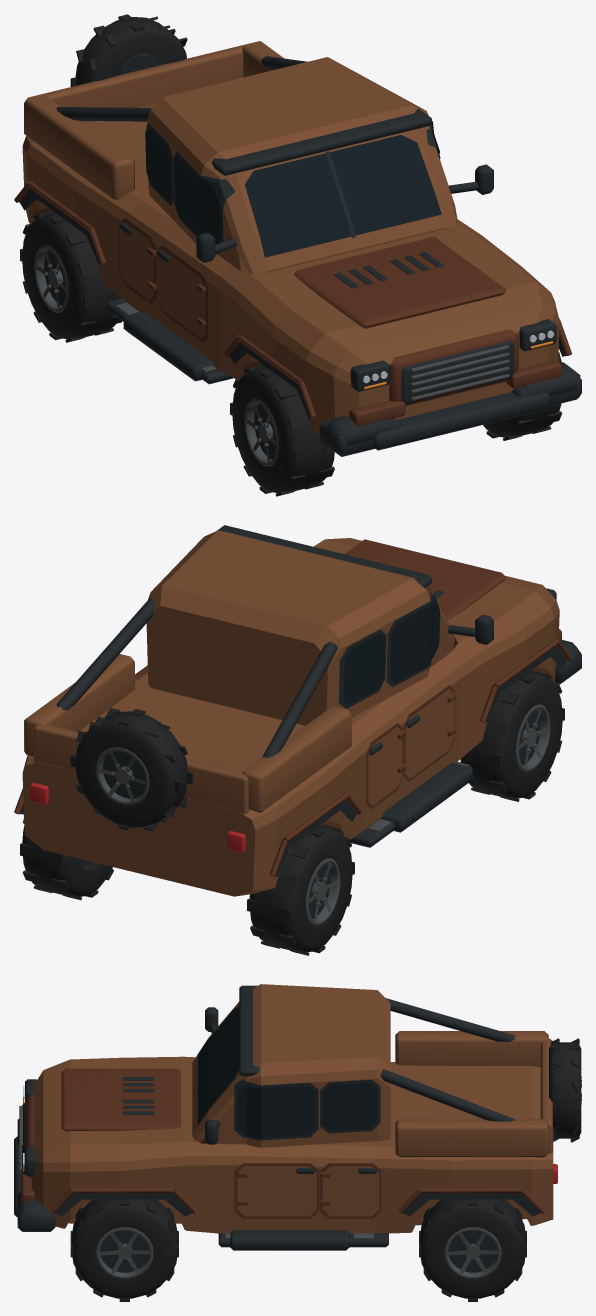
File: pickup.glb
3 views of the same model, one above another, from view 1: azimuth 30°, elevation 25°; view 2: azimuth 150°, elevation 25°; view 3: azimuth 270°, elevation 25° (orthographic). The views are drawn at different scales.
Parts seen in each view (by area): view 1: pickup; view 2: pickup; view 3: pickup.
Boxes of the visible parts, left/top/right/bottom form: pickup: left=14, top=14, right=581, bottom=496; pickup: left=14, top=525, right=581, bottom=955; pickup: left=14, top=984, right=581, bottom=1301.
Bounding box in the file's own units: 2.62 × 2.3 × 5.3.
